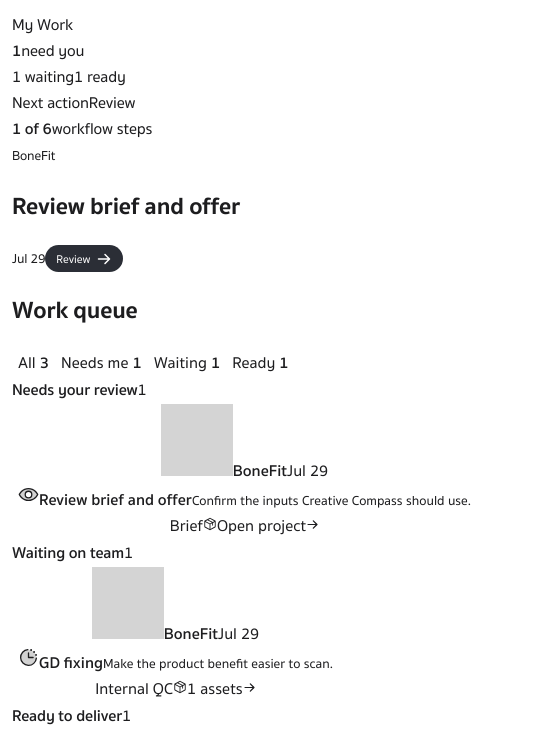
Test case: My Work › filters the queue without changing persisted run state
Click the button "Ready 1": (260, 363) [226,349,295,377]
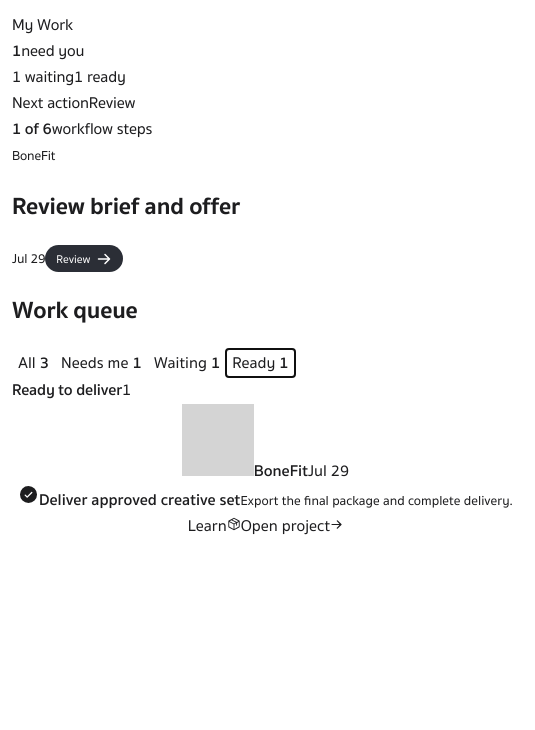
expect the element "Ready to deliver" is shown: met, box [12,377,519,540]
expect the text "Needs your review" is gone: met
